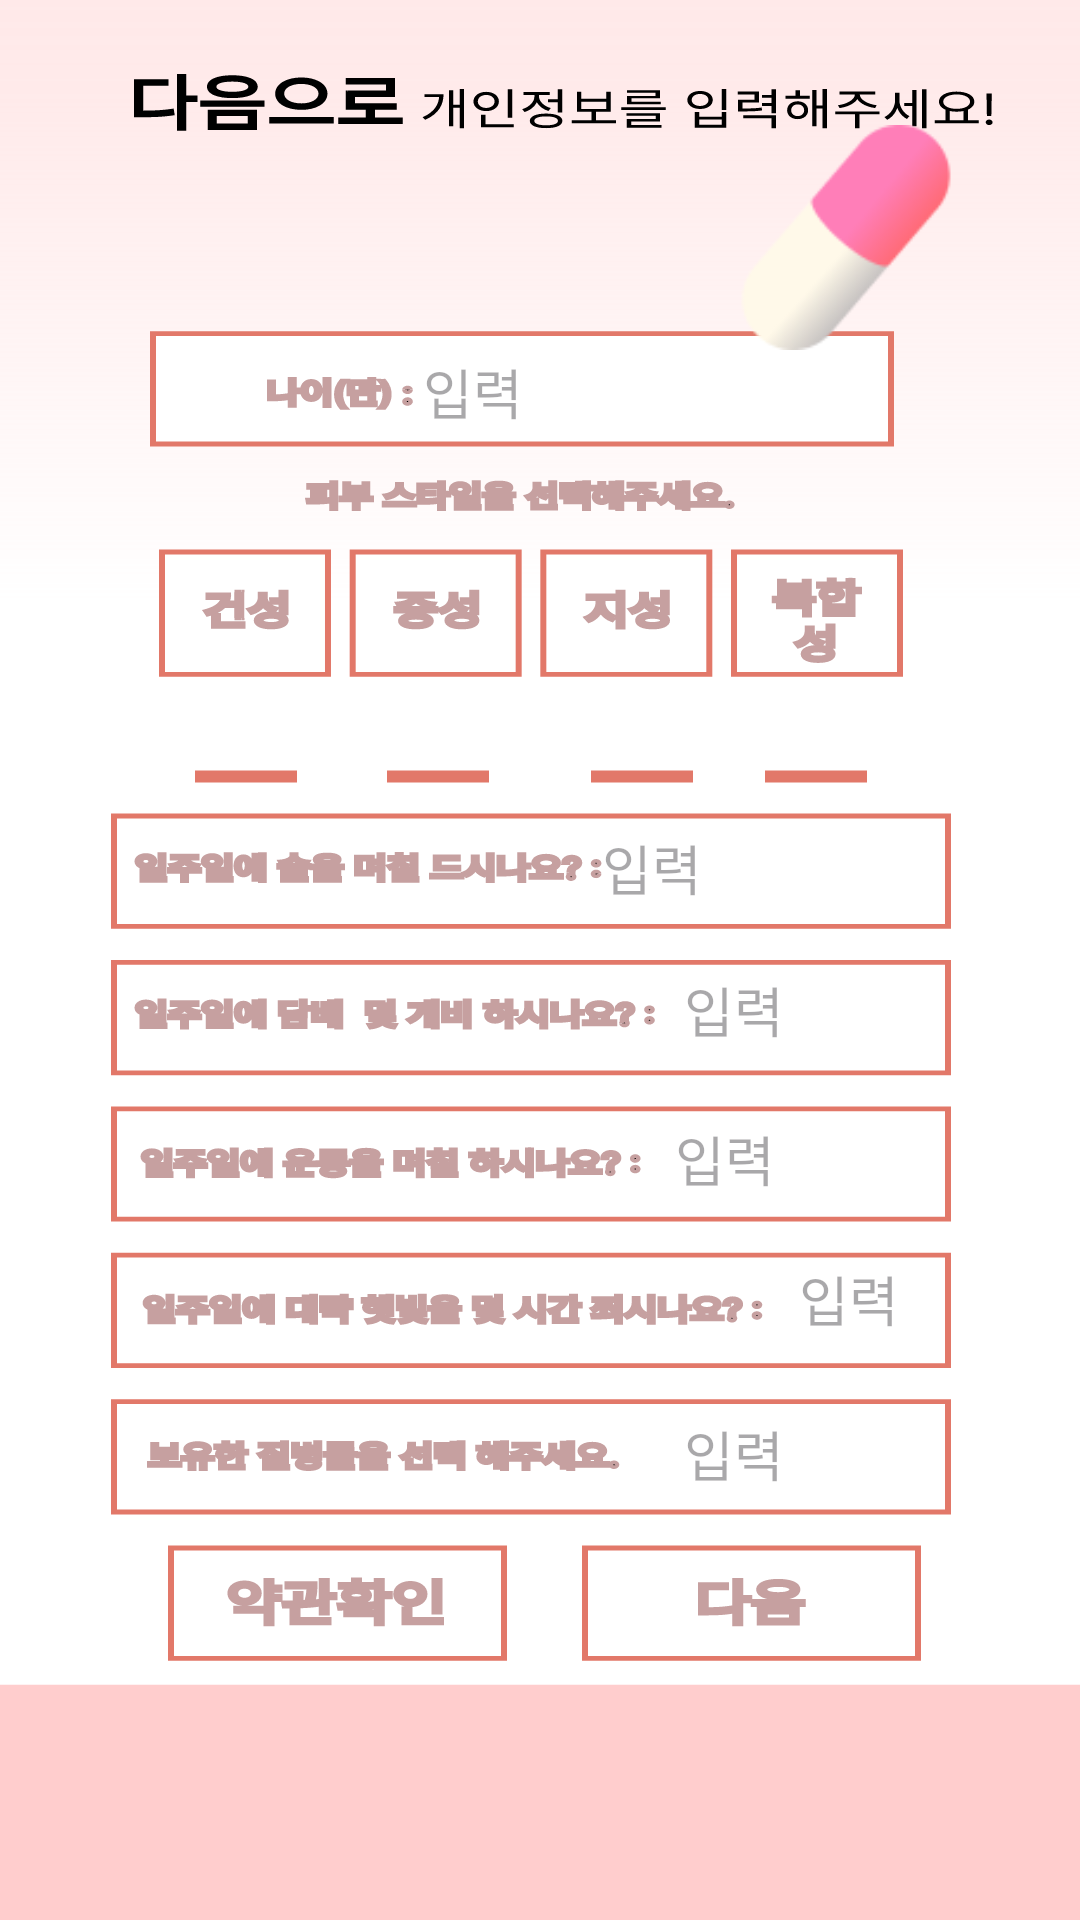

Named icons in this screenshot (1080*1920) and their centers, point (x, y):
pill: point (781, 237)
